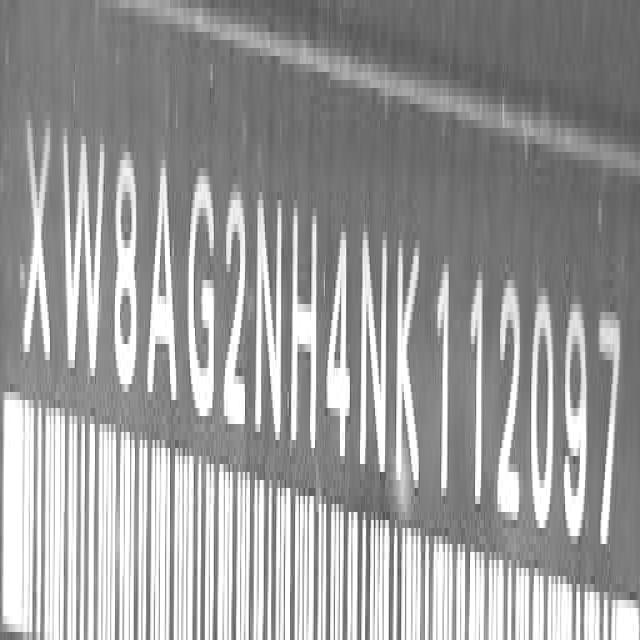0: (529, 284, 554, 538)
1: (466, 264, 485, 522), (437, 247, 453, 510)
2: (222, 175, 248, 447), (495, 270, 521, 542)
4: (328, 205, 352, 474)
7: (598, 299, 622, 561)
8: (116, 136, 140, 402)
9: (560, 298, 588, 551)
A: (148, 154, 178, 416)
G: (183, 157, 216, 436)
H: (292, 189, 319, 461)
K: (394, 234, 426, 504)
N: (257, 182, 287, 458), (360, 216, 390, 490)
W: (59, 109, 103, 392)
X: (23, 96, 52, 378)
